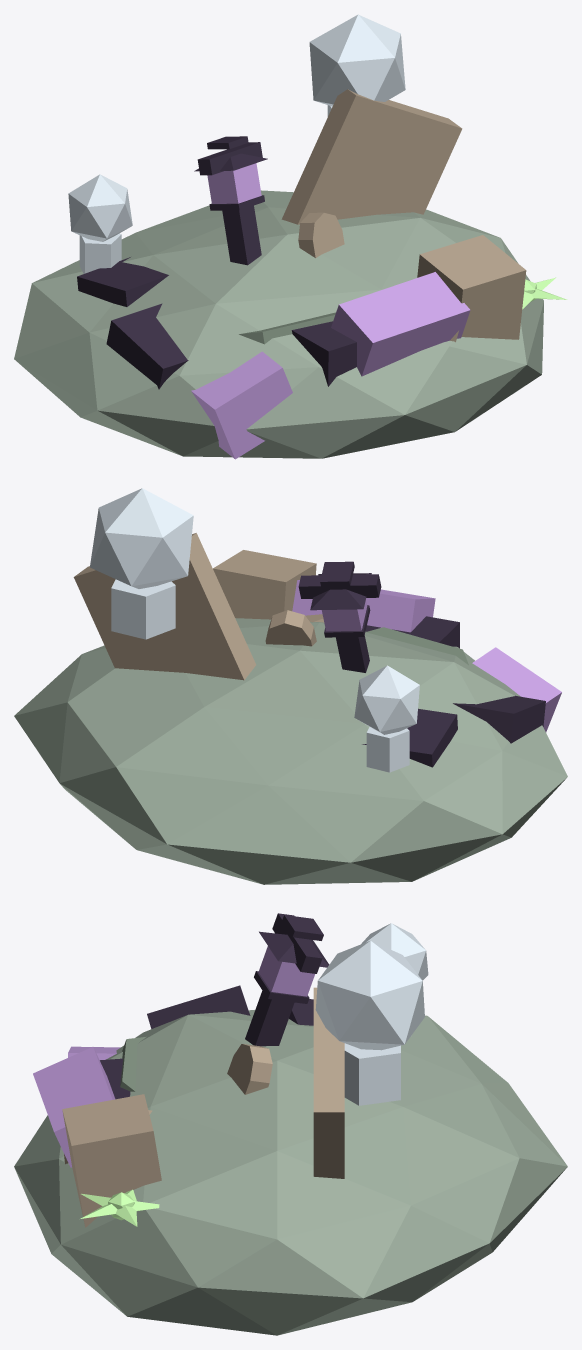
Rendered from graveyard-ruin.glb.
The picture shows the model from 3 angles, top to bottom: view 1: azimuth 30°, elevation 25°; view 2: azimuth 150°, elevation 25°; view 3: azimuth 270°, elevation 25°; orthographic projection. The views are drawn at different scales.
Visible parts, largest first — view 1: graveyard-ruin; view 2: graveyard-ruin; view 3: graveyard-ruin.
Part boxes in pixels (x1,y1,x2,y2): graveyard-ruin: (14, 14, 567, 459); graveyard-ruin: (14, 488, 567, 884); graveyard-ruin: (14, 913, 567, 1335).
Size of the model in its own units: 1.19 by 0.7194 by 1.07.
